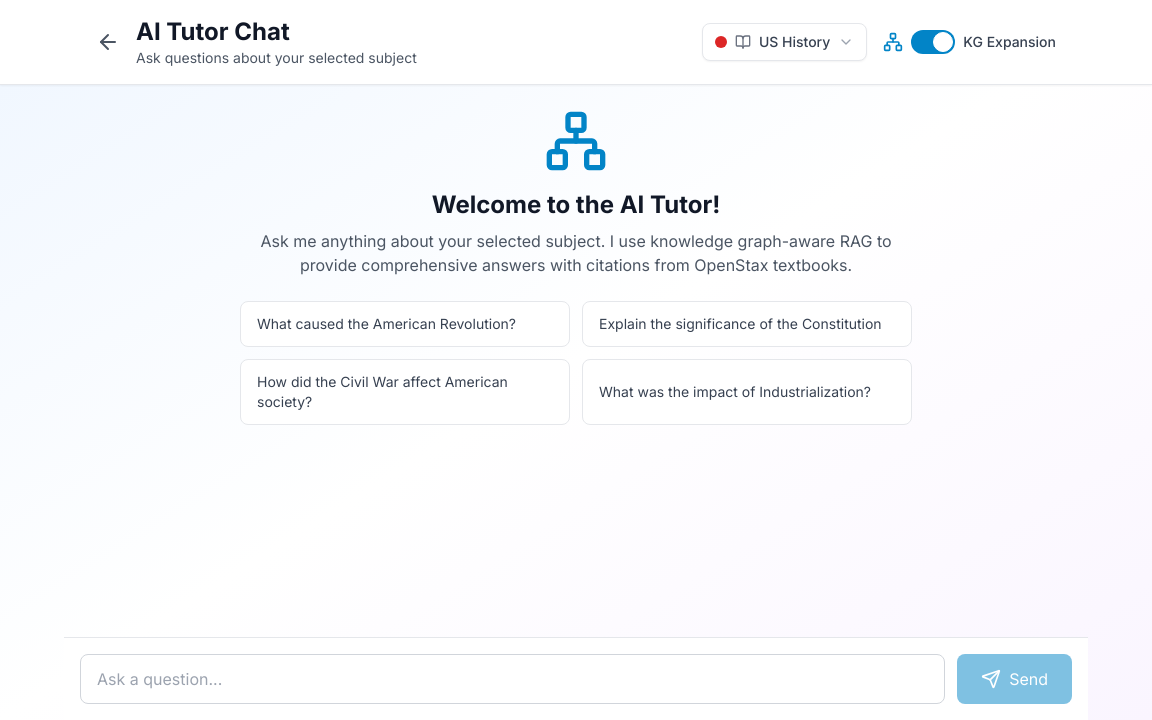
it: ChatPage › Sending Messages › displays user message after sending
Step 1. Type "My question" into the field with placeholder "Ask a question..." → (513, 679), box x1=80 y1=654 x2=945 y2=704
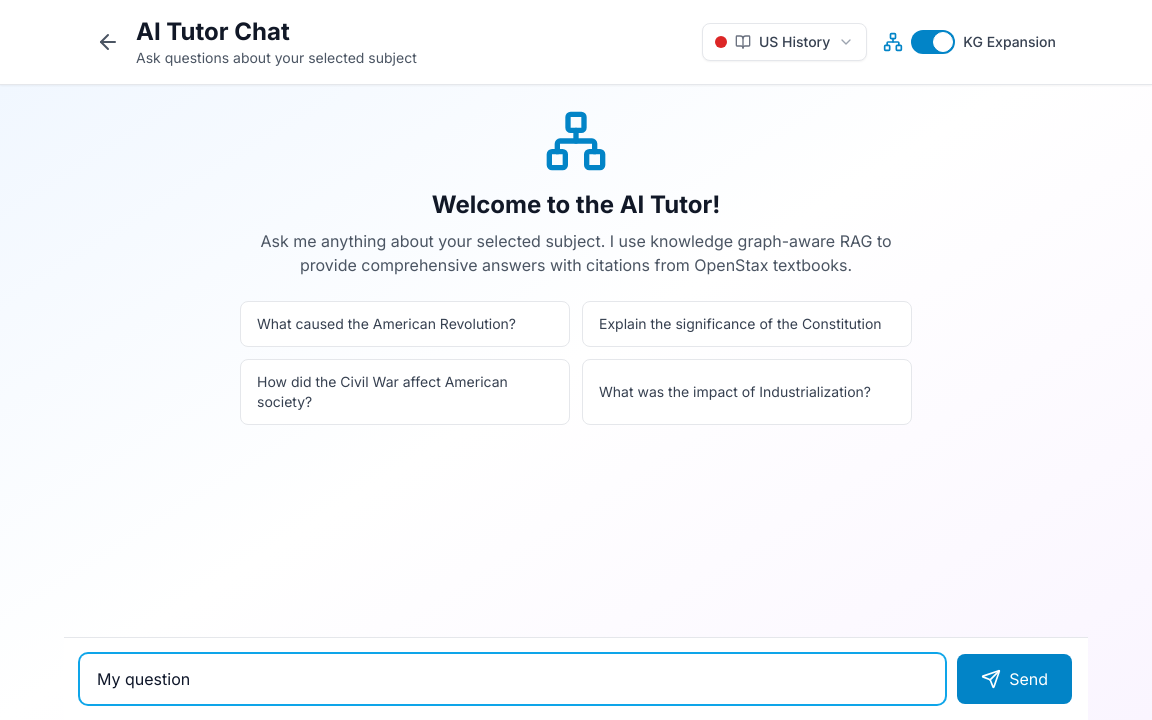
Step 2. Submit the form with placeholder "Ask a question", box x1=80 y1=654 x2=1072 y2=704
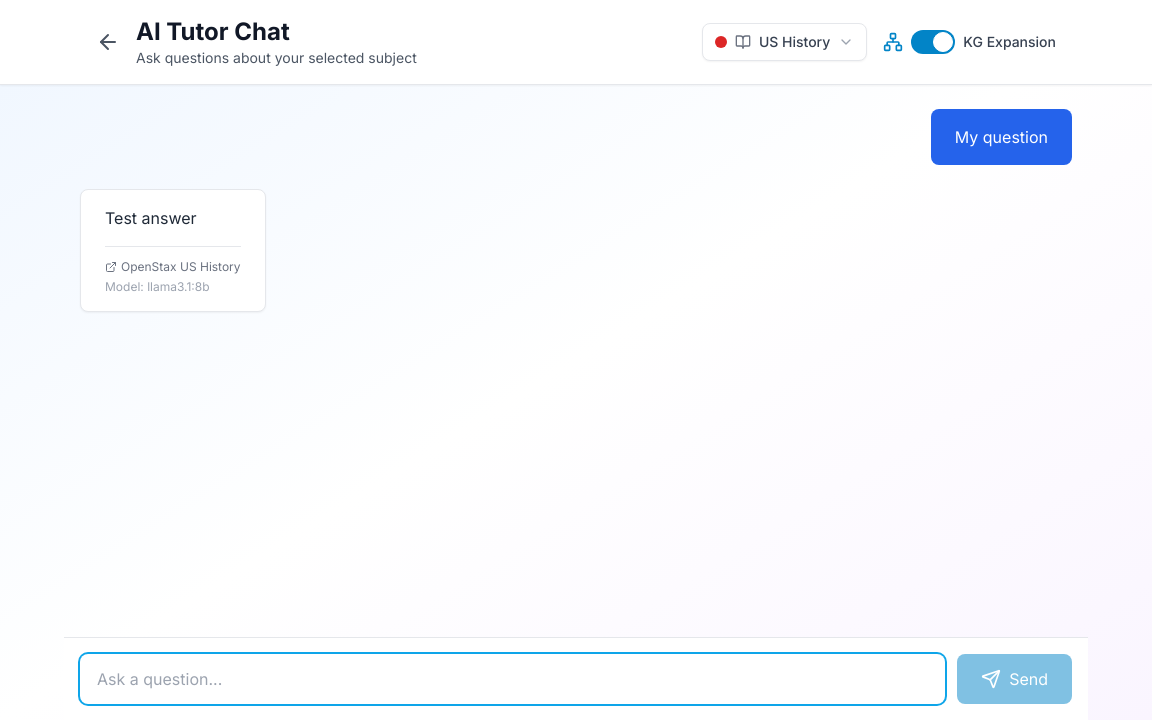
Expected: the text "My question" is shown, x1=955 y1=125 x2=1048 y2=149
